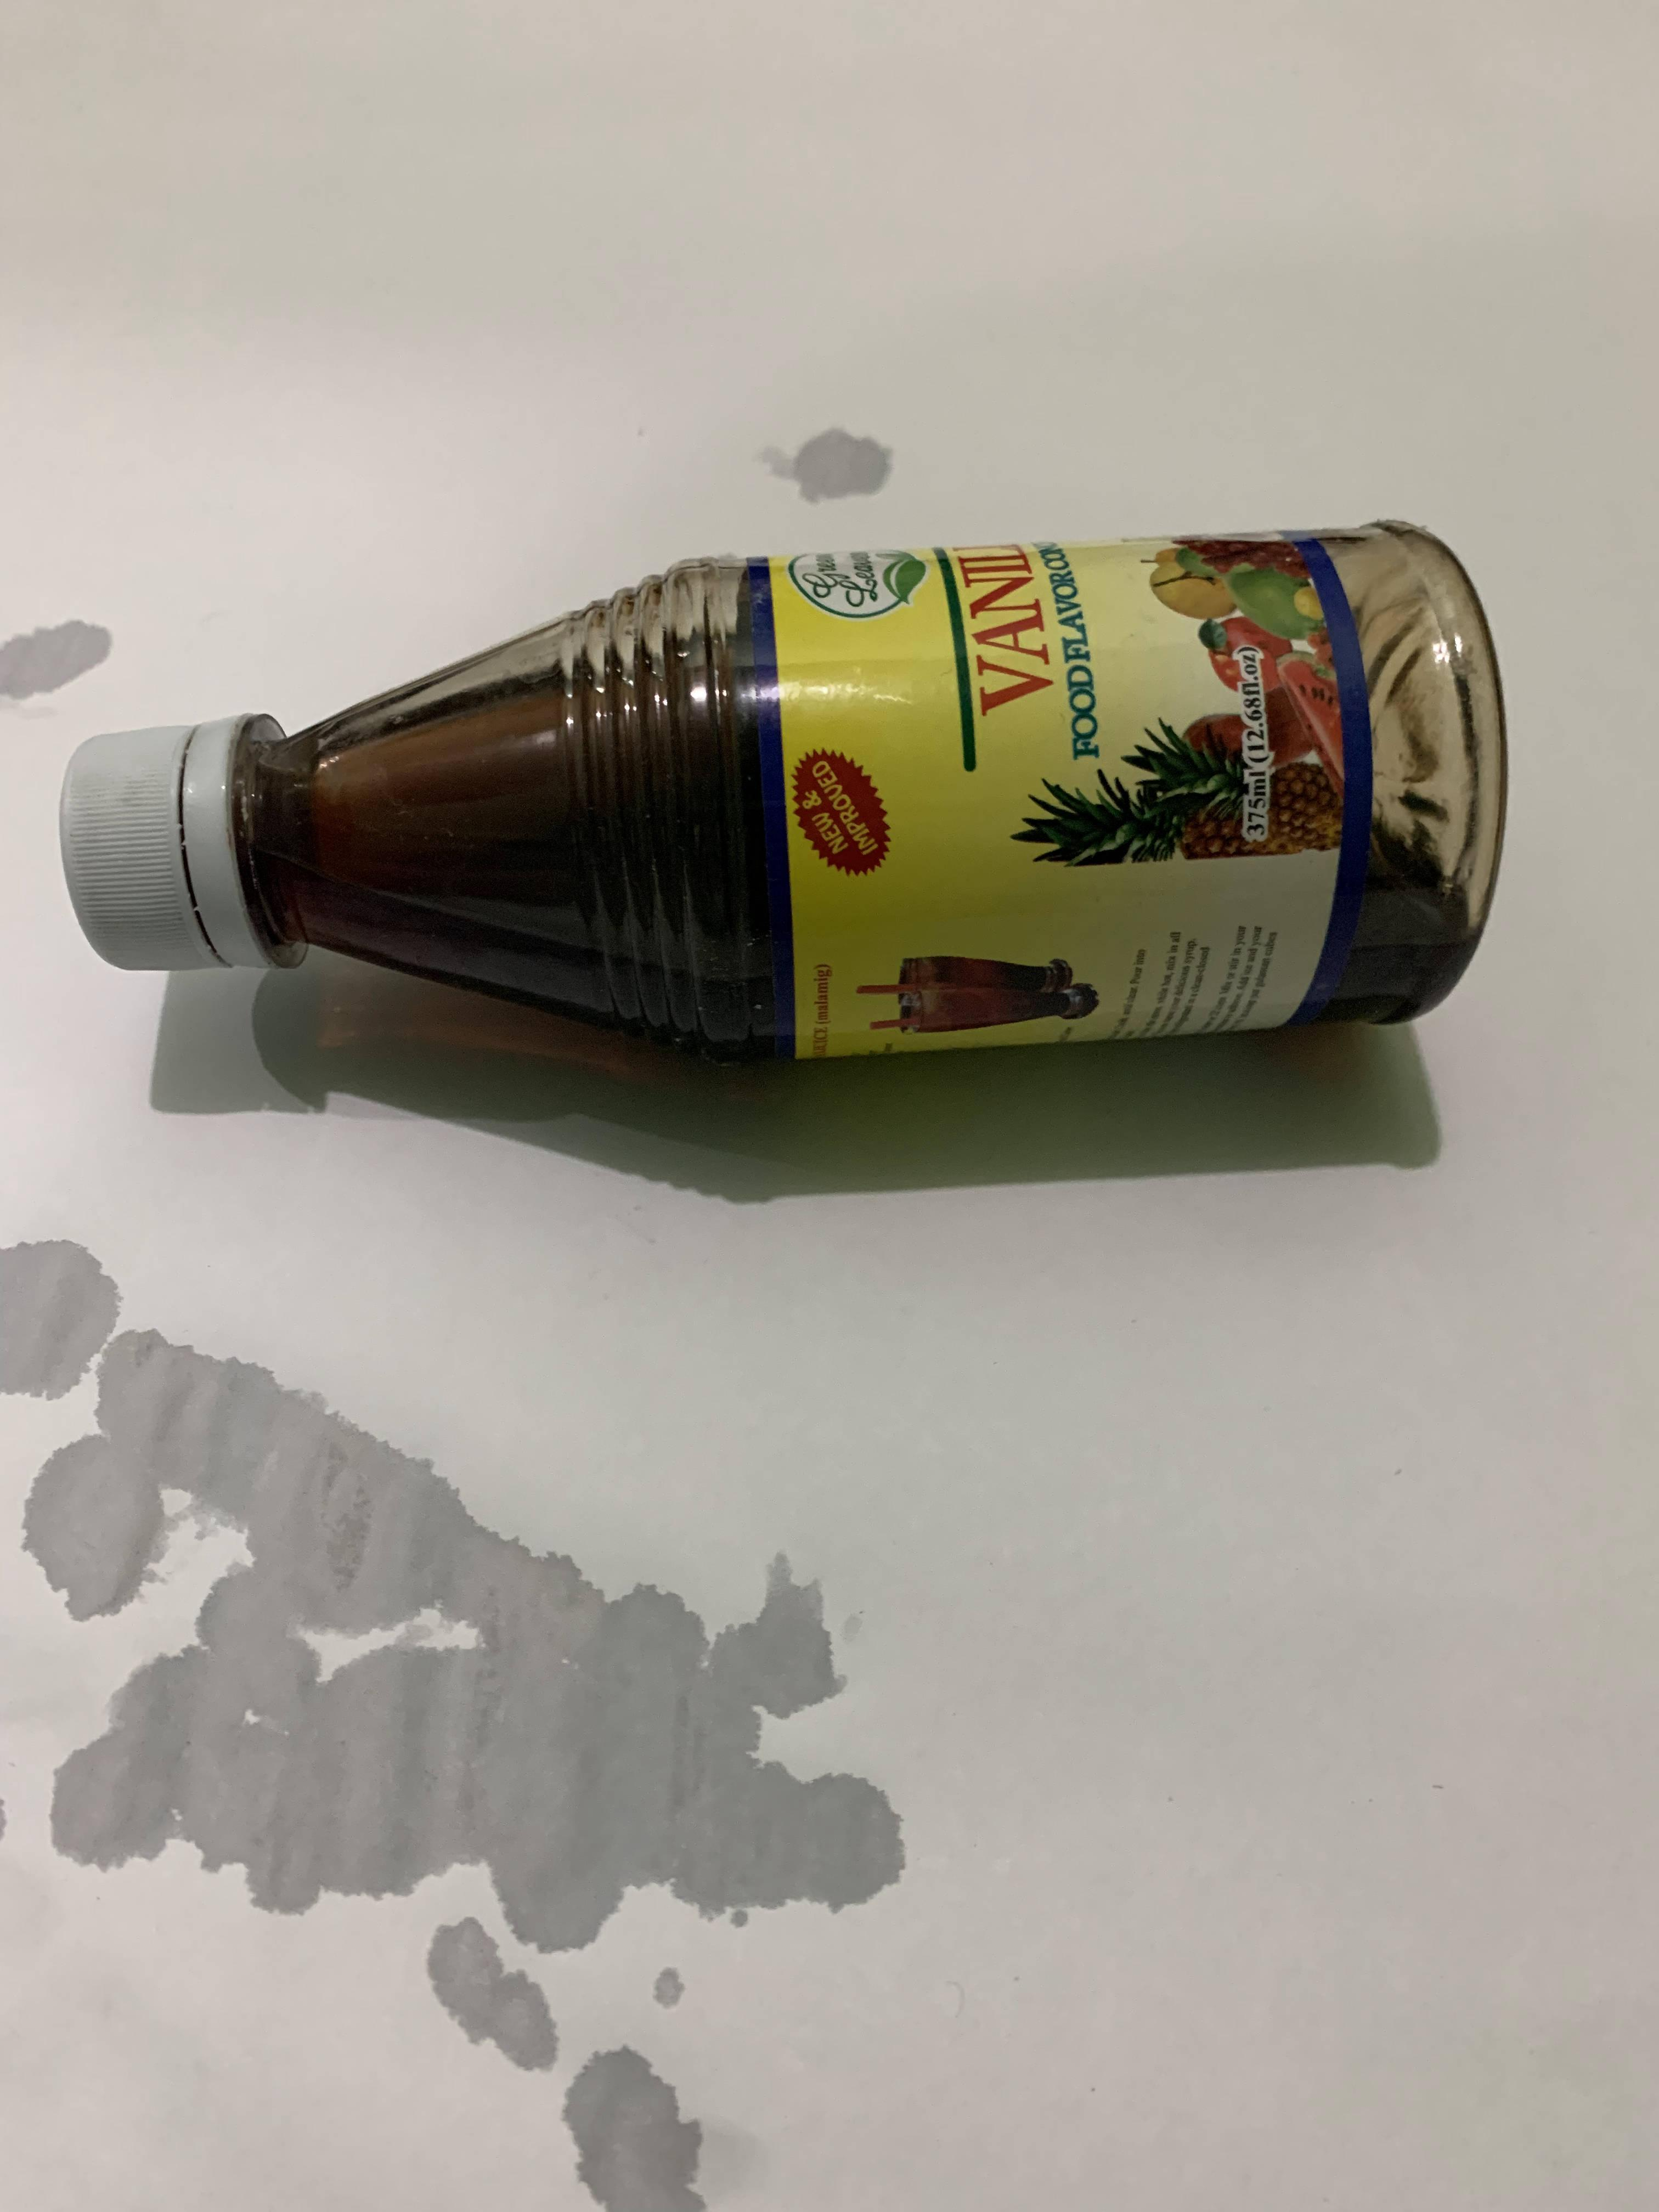bottle: (49, 510, 1523, 1087)
